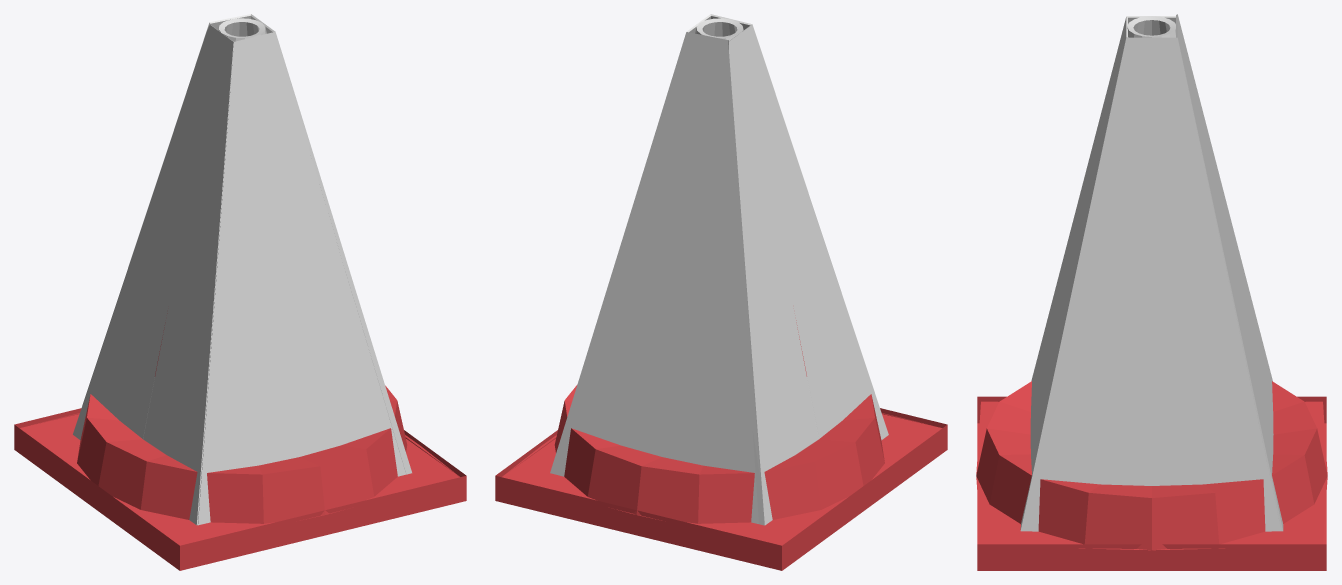
Rendered from plot3d2.fbx.
3 renders of one model, left to right at view 1: azimuth 30°, elevation 25°; view 2: azimuth 150°, elevation 25°; view 3: azimuth 270°, elevation 25°, orthographic. The views are drawn at different scales.
Parts seen in each view (by area): view 1: Cube.002, Cylinder, Cube.003, Cube.001; view 2: Cube.004, Cylinder, Cube.003; view 3: Cube.001, Cylinder, Cube.004, Cube.002.
Boxes of the visible parts, x1,y1,x2,y2 form: Cube.002: [198, 32, 405, 525]; Cylinder: [14, 18, 466, 570]; Cube.003: [73, 25, 233, 525]; Cube.001: [250, 14, 411, 474]; Cube.004: [550, 32, 759, 523]; Cylinder: [495, 18, 947, 570]; Cube.003: [729, 24, 888, 525]; Cube.001: [1020, 37, 1281, 531]; Cylinder: [976, 16, 1327, 570]; Cube.004: [1176, 14, 1283, 531]; Cube.002: [1021, 16, 1127, 524].
Size of the model in its own units: 274 by 406 by 273.
